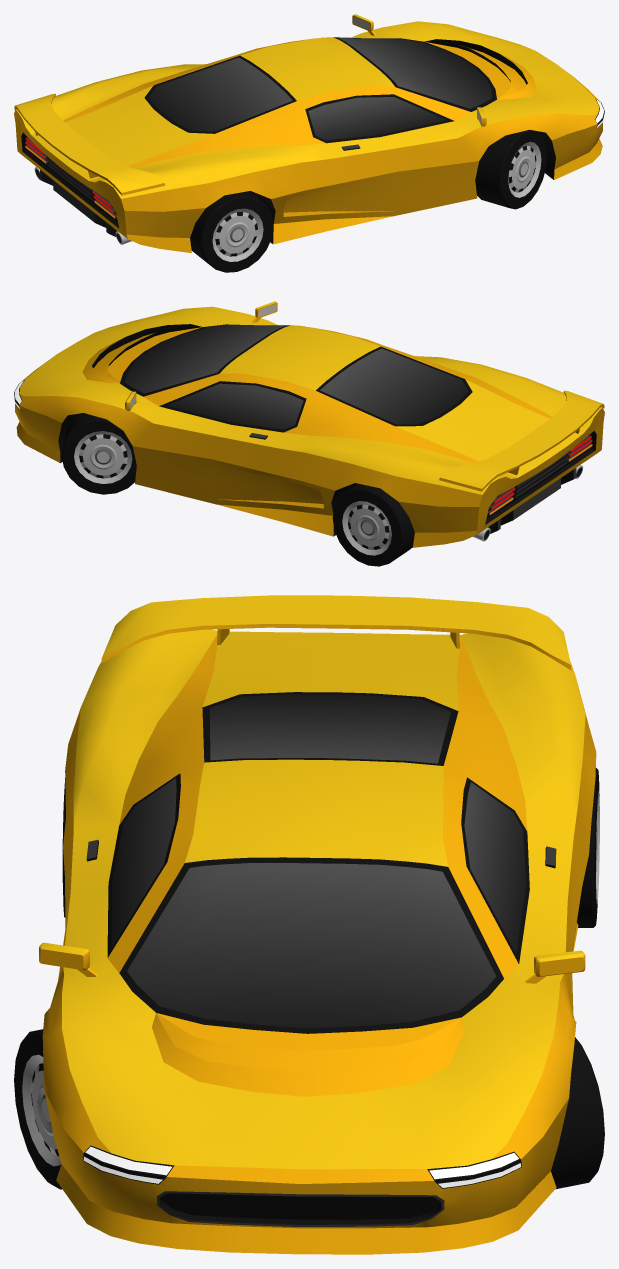
The model's file is Car_120.glb.
3 renders of one model, top to bottom at view 1: azimuth 30°, elevation 25°; view 2: azimuth 150°, elevation 25°; view 3: azimuth 270°, elevation 25°, orthographic. The views are drawn at different scales.
Visible parts, largest first — view 1: Car_120, wheel_3_Car_120_Wheel_2R, wheel_1_Car_120_Wheel_1R; view 2: Car_120, wheel_2_Car_120_Wheel_2L, wheel_0_Car_120_Wheel_1L; view 3: Car_120, wheel_0_Car_120_Wheel_1L, wheel_1_Car_120_Wheel_1R, wheel_2_Car_120_Wheel_2L.
Part boxes in pixels (x1=…): Car_120: x1=14, y1=14, x2=604, y2=253; wheel_3_Car_120_Wheel_2R: x1=190, y1=191, x2=273, y2=272; wheel_1_Car_120_Wheel_1R: x1=475, y1=129, x2=547, y2=209; Car_120: x1=14, y1=301, x2=604, y2=547; wheel_2_Car_120_Wheel_2L: x1=332, y1=483, x2=414, y2=566; wheel_0_Car_120_Wheel_1L: x1=61, y1=413, x2=136, y2=494; Car_120: x1=39, y1=595, x2=596, y2=1254; wheel_0_Car_120_Wheel_1L: x1=551, y1=1037, x2=604, y2=1189; wheel_1_Car_120_Wheel_1R: x1=14, y1=1029, x2=61, y2=1189; wheel_2_Car_120_Wheel_2L: x1=577, y1=768, x2=599, y2=927.
Size of the model in its own units: 4.46 by 1.06 by 2.26.
2 materials, 2 textured.
